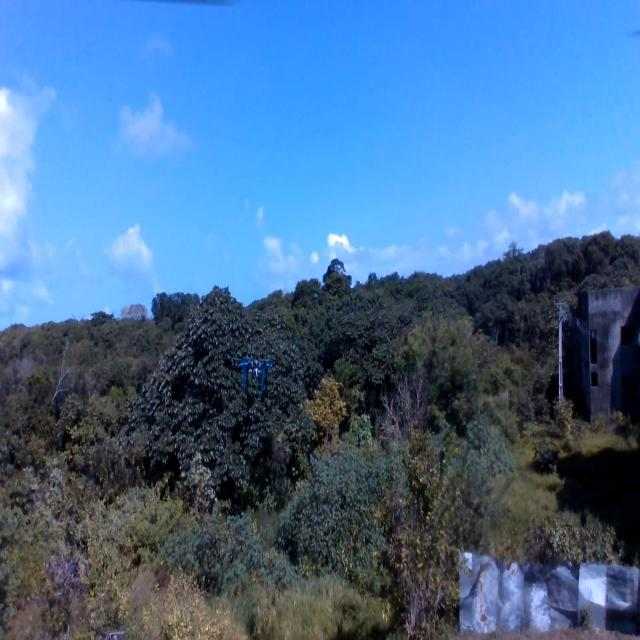-uav-: (239, 352, 271, 392)
